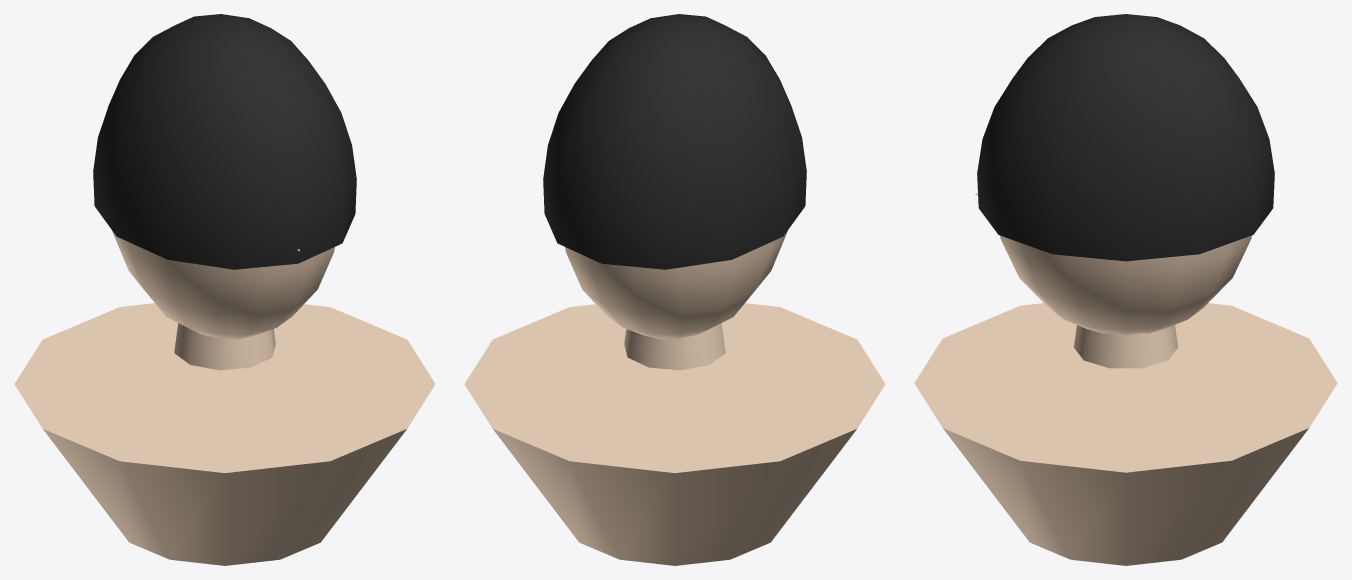
The model's file is portrait14m_002.glb.
The picture shows the model from 3 angles, left to right: view 1: azimuth 30°, elevation 25°; view 2: azimuth 150°, elevation 25°; view 3: azimuth 270°, elevation 25°; orthographic projection.
Bounding box in the file's own units: 1.7 × 2.21 × 1.7.
